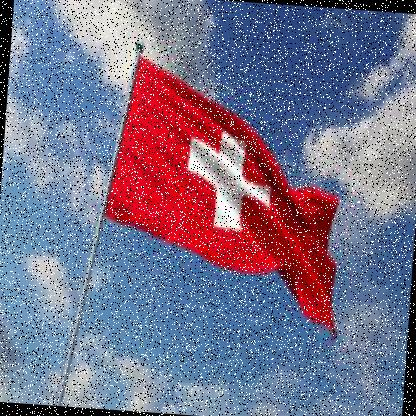ch: (102, 48, 354, 310)
